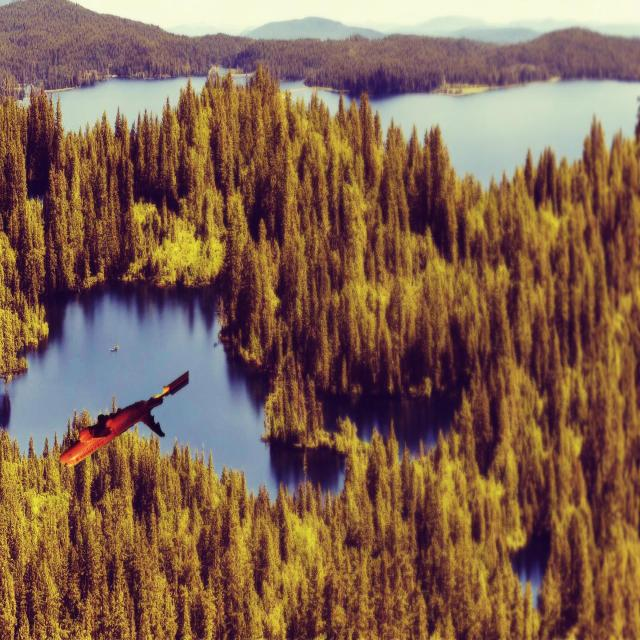airplane: (59, 368, 189, 468)
